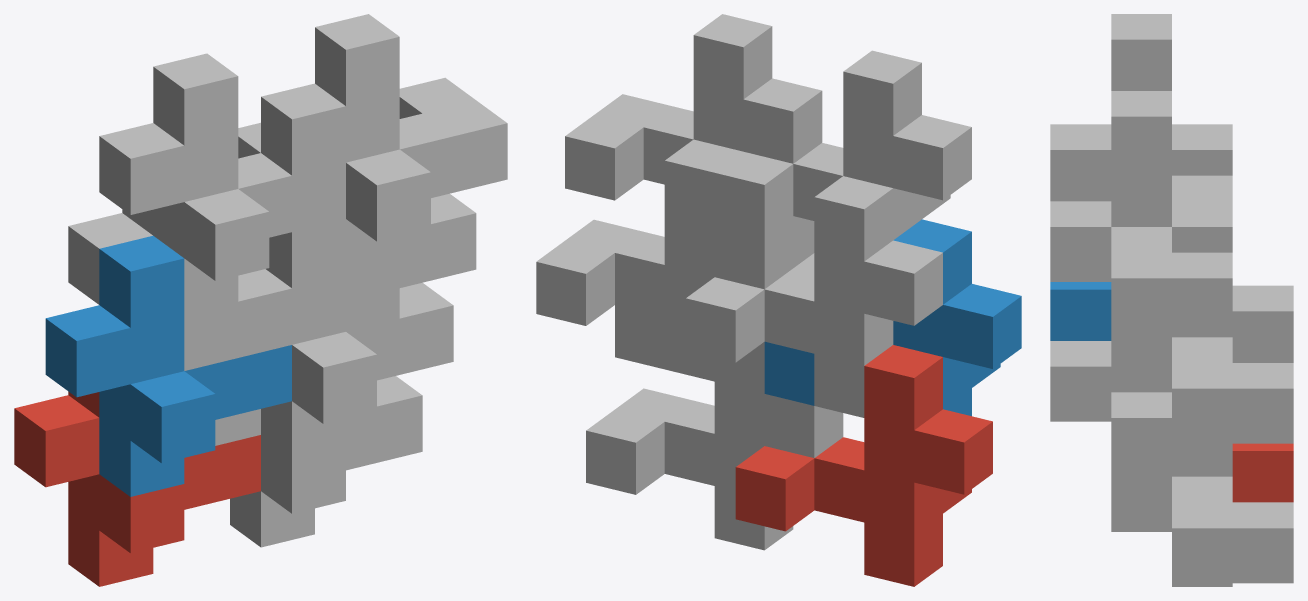
The model's file is tiling.obj.
3 renders of one model, left to right at view 1: azimuth 30°, elevation 25°; view 2: azimuth 150°, elevation 25°; view 3: azimuth 270°, elevation 25°, orthographic. The views are drawn at different scales.
Visible parts, largest first — view 1: copy_1_domain_8, copy_1_domain_4, copy_1_domain_2, copy_1_domain_6, copy_1_domain_1, copy_1_domain_5, copy_1_domain_7, copy_1_domain_3; view 2: copy_1_domain_1, copy_1_domain_3, copy_1_domain_7, copy_1_domain_8, copy_1_domain_4, copy_1_domain_5, copy_1_domain_2, copy_1_domain_6; view 3: copy_1_domain_8, copy_1_domain_7, copy_1_domain_5, copy_1_domain_6, copy_1_domain_4, copy_1_domain_3, copy_1_domain_1, copy_1_domain_2.
Boxes of the visible parts, left/top/right/bottom form: copy_1_domain_8: left=261, top=14, right=507, bottom=275; copy_1_domain_4: left=99, top=53, right=345, bottom=314; copy_1_domain_2: left=45, top=235, right=291, bottom=496; copy_1_domain_6: left=238, top=219, right=453, bottom=457; copy_1_domain_1: left=14, top=391, right=260, bottom=586; copy_1_domain_5: left=215, top=376, right=422, bottom=547; copy_1_domain_7: left=346, top=193, right=476, bottom=331; copy_1_domain_3: left=68, top=209, right=238, bottom=370; copy_1_domain_1: left=735, top=345, right=992, bottom=586; copy_1_domain_3: left=686, top=176, right=942, bottom=417; copy_1_domain_7: left=536, top=139, right=793, bottom=381; copy_1_domain_8: left=565, top=14, right=822, bottom=200; copy_1_domain_4: left=714, top=50, right=971, bottom=239; copy_1_domain_5: left=586, top=342, right=843, bottom=550; copy_1_domain_2: left=764, top=219, right=1021, bottom=416; copy_1_domain_6: left=615, top=216, right=814, bottom=369; copy_1_domain_8: left=1050, top=91, right=1232, bottom=337; copy_1_domain_7: left=1111, top=201, right=1293, bottom=443; copy_1_domain_5: left=1111, top=473, right=1293, bottom=586; copy_1_domain_6: left=1050, top=341, right=1232, bottom=476; copy_1_domain_4: left=1050, top=14, right=1232, bottom=201; copy_1_domain_3: left=1172, top=124, right=1293, bottom=362; copy_1_domain_1: left=1232, top=443, right=1293, bottom=502; copy_1_domain_2: left=1050, top=282, right=1111, bottom=340.
Bounding box in the file's own units: 8 × 9 × 4.
